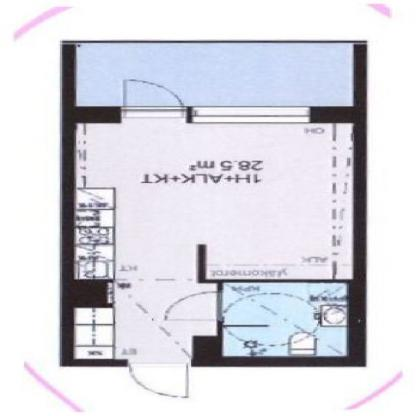door: (119, 75, 187, 117), (131, 358, 198, 399), (165, 290, 214, 323)
window: (194, 106, 312, 125)
zone: (78, 113, 346, 279), (78, 43, 358, 107), (79, 280, 227, 358), (225, 282, 342, 357)
